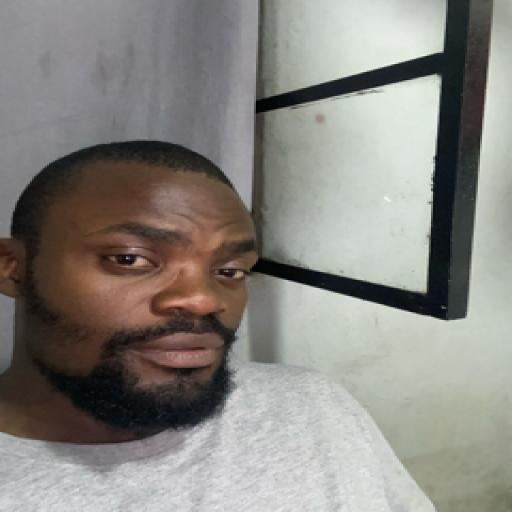JEANLUC: (4, 140, 305, 438)
